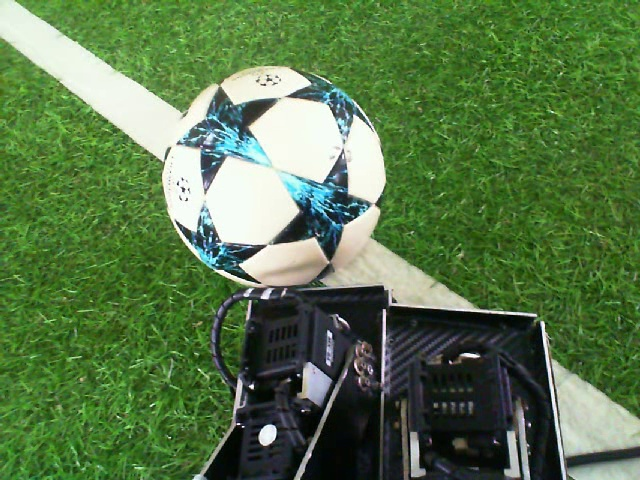ball: (160, 63, 387, 290)
